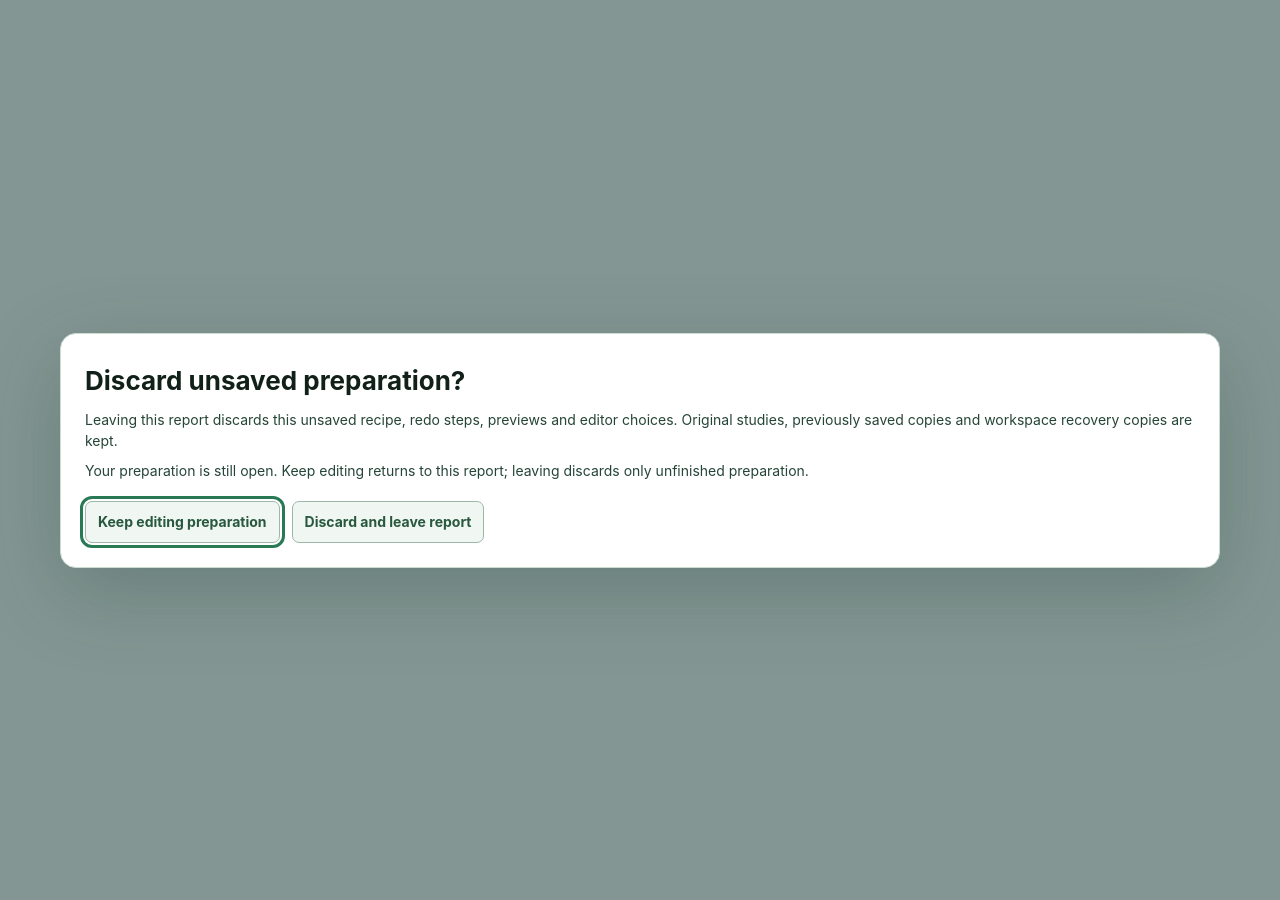
aborts interrupted work, keeps its recipe/preview and ignores a late save acknowledgement
Earlier steps of the test are not shown.
Later steps or results of the test are not shown.
Expected: the dialog is shown, [60, 332, 1220, 568]
Click the button "Keep editing preparation": (182, 522) [85, 500, 280, 542]
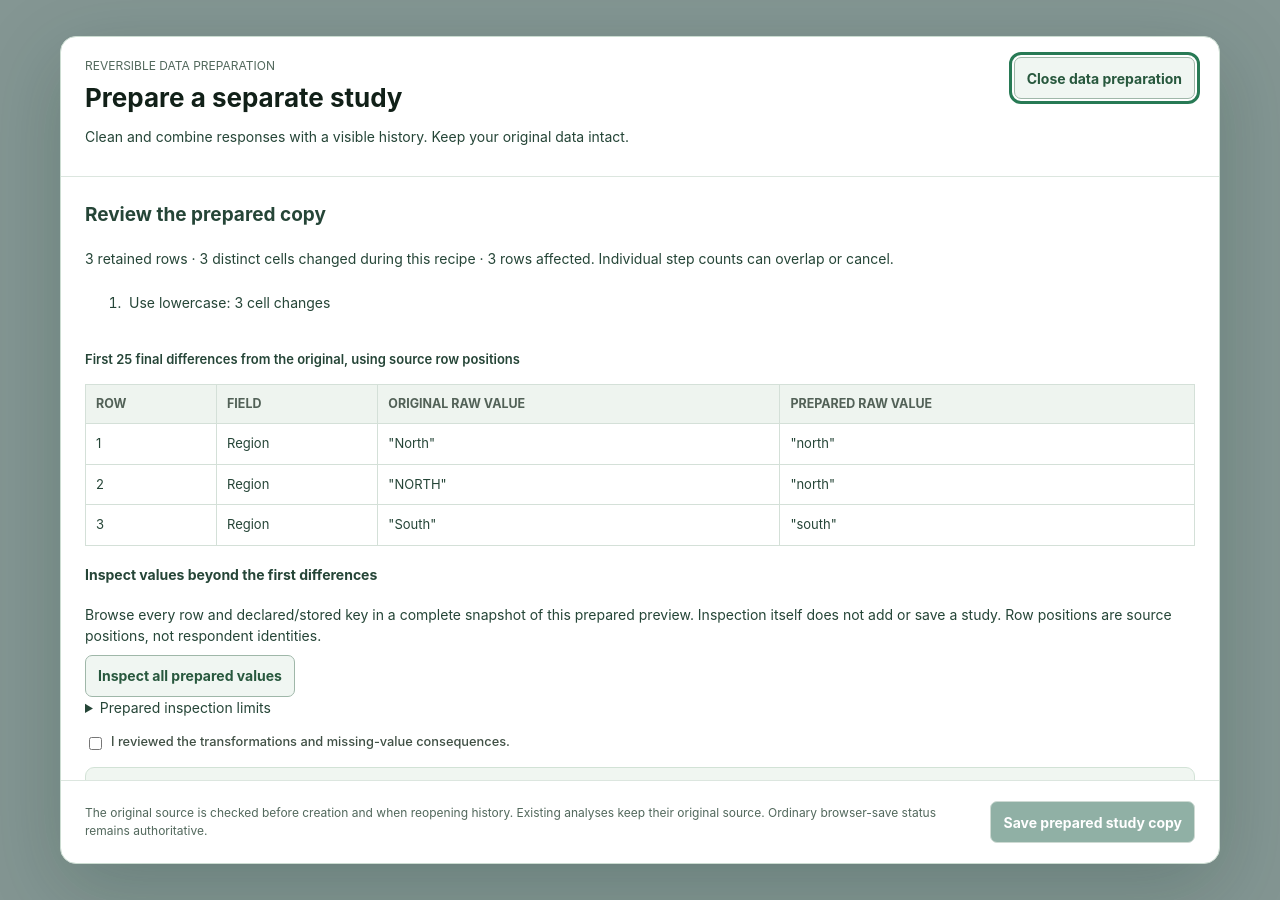
Result: the element named "Preparation preview" is shown at [85, 200, 1195, 753]
